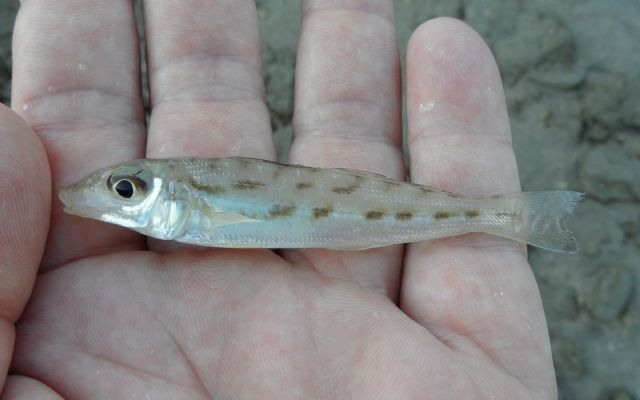kiss: (53, 148, 578, 254)
